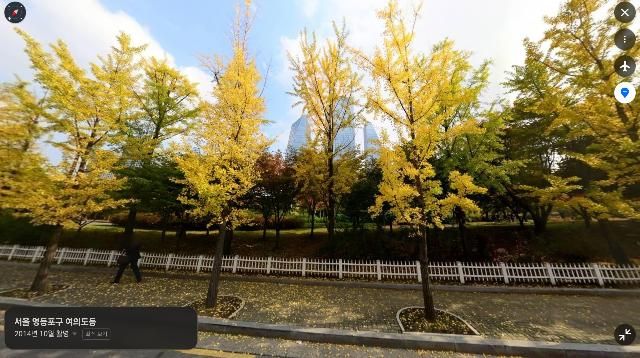ginkgo: (359, 0, 494, 323), (499, 0, 640, 266), (168, 0, 283, 310), (0, 26, 130, 295), (84, 31, 202, 251), (285, 15, 374, 252)
